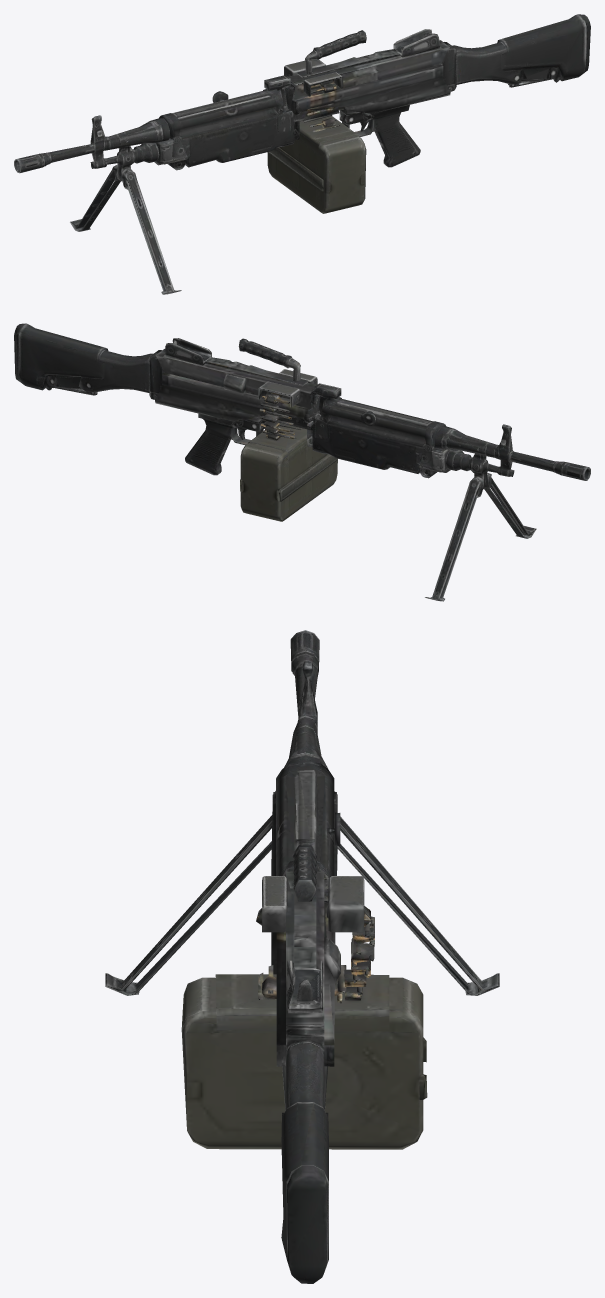
Rendered from arma_mitragliatore.glb.
3 views of the same model, one above another, from view 1: azimuth 30°, elevation 25°; view 2: azimuth 150°, elevation 25°; view 3: azimuth 270°, elevation 25° (orthographic). The views are drawn at different scales.
Size of the model in its own units: 0.9575 by 0.275 by 0.2876.
1 material, 1 textured.
